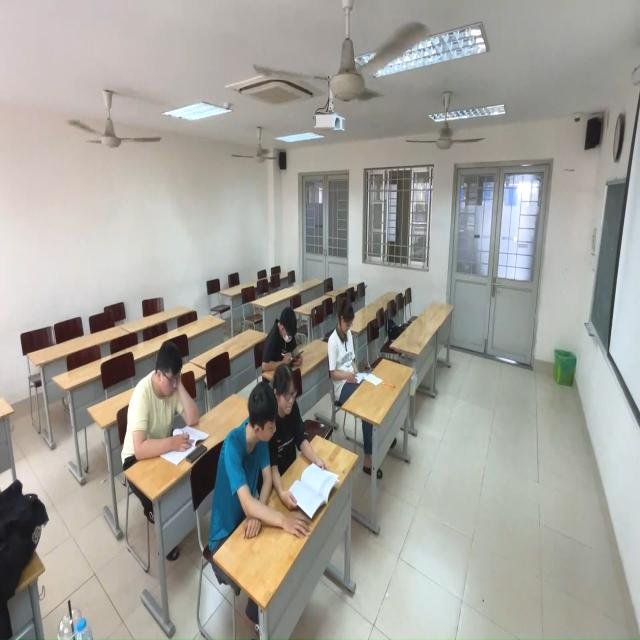read: (215, 370, 283, 554), (119, 342, 211, 473), (268, 355, 324, 489), (327, 300, 384, 407), (264, 306, 306, 368)
